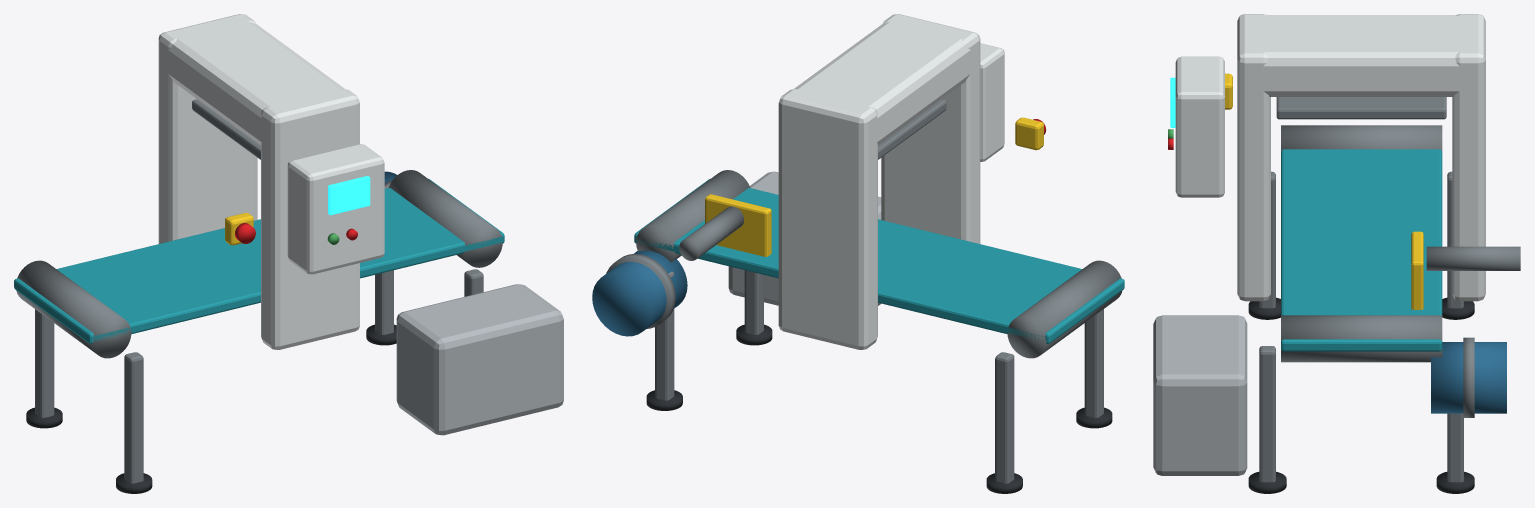
The model's file is metal-detector.glb.
3 views of the same model, side by side, from view 1: azimuth 30°, elevation 25°; view 2: azimuth 150°, elevation 25°; view 3: azimuth 270°, elevation 25° (orthographic). The views are drawn at different scales.
Visible parts, largest first — view 1: reject_bin, belt_surface, portal_side, portal_side.001, portal_top, cabinet, roller_in, roller_out, leg_1, leg_2, hmi, leg_4 (+1 smaller); view 2: portal_side.001, belt_surface, portal_side, portal_top, motor_body, roller_in, roller_out, cabinet, leg_2, pusher_plate, leg_1, air_cylinder (+6 smaller); view 3: belt_surface, portal_top, reject_bin, portal_side, portal_side.001, cabinet, roller_out, motor_body, roller_in, portal_inner_top, air_cylinder, leg_3 (+9 smaller).
Boxes of the visible parts, x1=… form: reject_bin: x1=396, y1=284, x2=563, y2=435; belt_surface: x1=14, y1=178, x2=504, y2=343; portal_side: x1=261, y1=89, x2=359, y2=349; portal_side.001: x1=158, y1=14, x2=257, y2=243; portal_top: x1=168, y1=21, x2=344, y2=145; cabinet: x1=287, y1=144, x2=384, y2=274; roller_in: x1=16, y1=260, x2=131, y2=358; roller_out: x1=388, y1=170, x2=502, y2=267; leg_1: x1=124, y1=352, x2=143, y2=483; leg_2: x1=35, y1=309, x2=54, y2=417; hmi: x1=328, y1=176, x2=370, y2=215; leg_4: x1=375, y1=270, x2=393, y2=334; portal_side.001: x1=778, y1=89, x2=877, y2=349; belt_surface: x1=634, y1=179, x2=1124, y2=343; portal_side: x1=881, y1=14, x2=980, y2=243; portal_top: x1=794, y1=21, x2=970, y2=145; motor_body: x1=592, y1=250, x2=687, y2=336; roller_in: x1=1007, y1=260, x2=1122, y2=358; roller_out: x1=636, y1=170, x2=750, y2=262; cabinet: x1=980, y1=43, x2=1004, y2=161; leg_2: x1=995, y1=352, x2=1014, y2=483; pusher_plate: x1=705, y1=194, x2=771, y2=256; leg_1: x1=1084, y1=309, x2=1103, y2=417; air_cylinder: x1=679, y1=206, x2=744, y2=260; belt_surface: x1=1281, y1=149, x2=1442, y2=351; portal_top: x1=1249, y1=15, x2=1473, y2=96; reject_bin: x1=1153, y1=315, x2=1247, y2=475; portal_side: x1=1237, y1=14, x2=1270, y2=301; portal_side.001: x1=1452, y1=14, x2=1485, y2=301; cabinet: x1=1175, y1=56, x2=1224, y2=197; roller_out: x1=1281, y1=315, x2=1442, y2=362; motor_body: x1=1431, y1=342, x2=1506, y2=413; roller_in: x1=1281, y1=125, x2=1442, y2=151; portal_inner_top: x1=1276, y1=97, x2=1446, y2=119; air_cylinder: x1=1426, y1=246, x2=1520, y2=270; leg_3: x1=1259, y1=346, x2=1275, y2=482.
Bounding box in the file's own units: 2.32 × 1.8 × 1.64.
